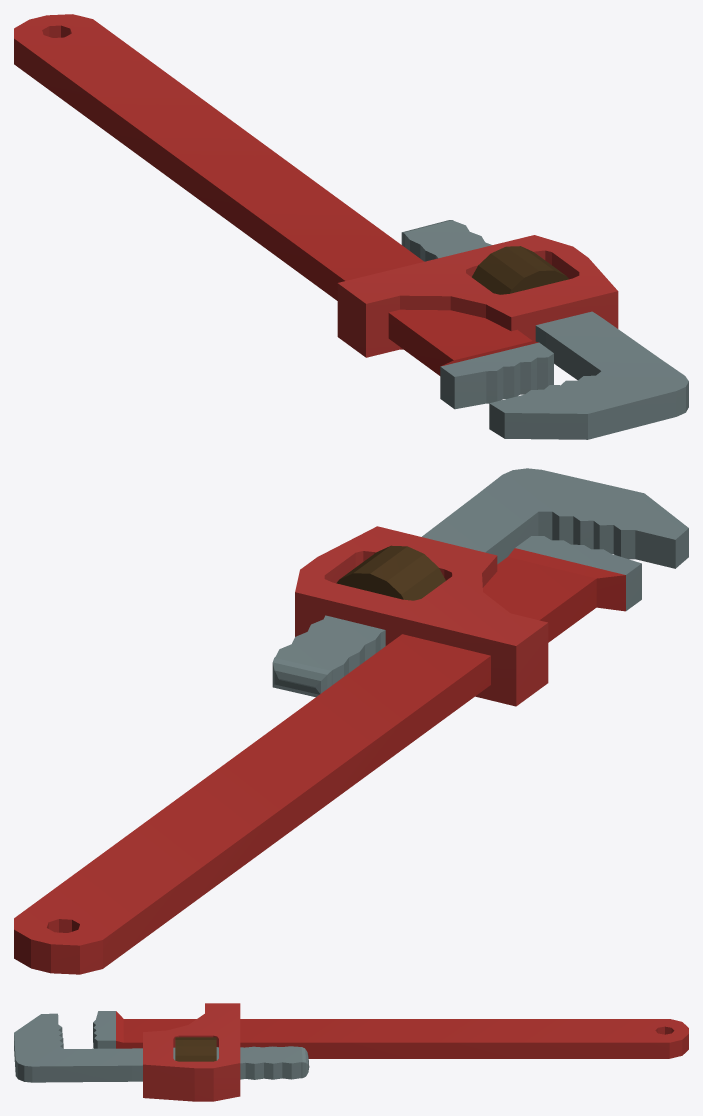
The model's file is PipeWrenchHandle.fbx.
3 views of the same model, one above another, from view 1: azimuth 30°, elevation 25°; view 2: azimuth 150°, elevation 25°; view 3: azimuth 270°, elevation 25° (orthographic). The views are drawn at different scales.
Parts seen in each view (by area): view 1: PipeWrenchHandle; view 2: PipeWrenchHandle; view 3: PipeWrenchHandle.
Boxes of the visible parts, x1,y1,x2,y2 form: PipeWrenchHandle: (14,14,688,439); PipeWrenchHandle: (14,468,688,974); PipeWrenchHandle: (14,1003,688,1101).
Size of the model in its own units: 24.77 by 9.06 by 109.
